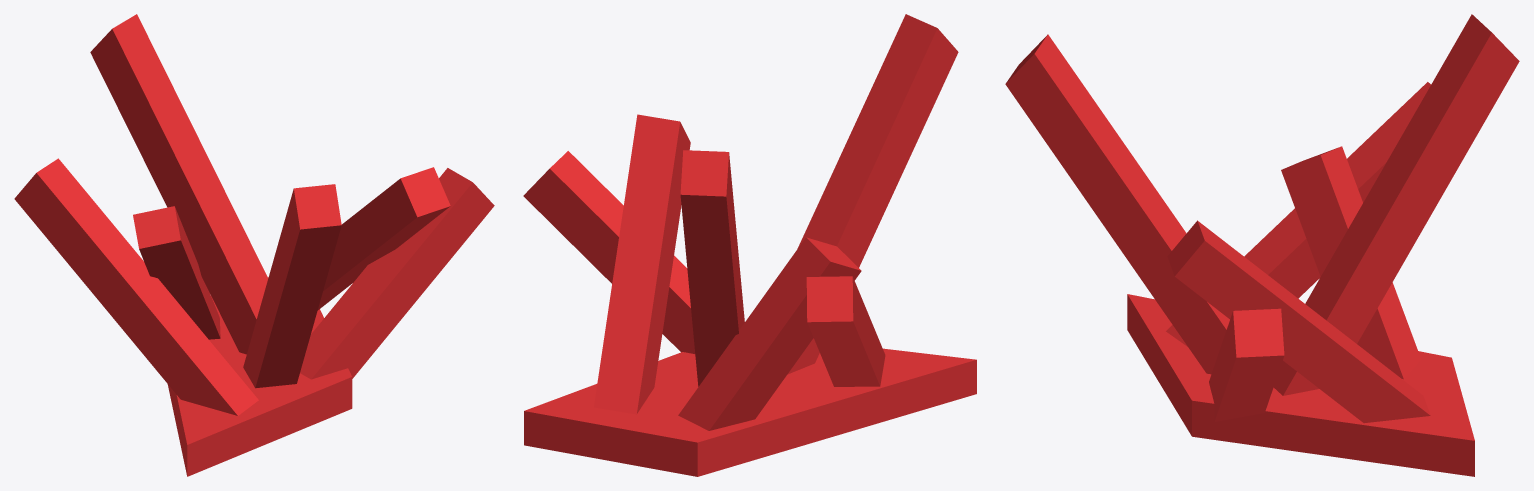
The model's file is Chromium.fbx.
3 views of the same model, side by side, from view 1: azimuth 30°, elevation 25°; view 2: azimuth 150°, elevation 25°; view 3: azimuth 270°, elevation 25° (orthographic). The views are drawn at different scales.
Visible parts, largest first — view 1: Cube.004, Cube.005, Cube.006, Cube.001, Cube, Cube.003, Cube.002; view 2: Cube, Cube.003, Cube.001, Cube.002, Cube.004, Cube.006, Cube.005; view 3: Cube.004, Cube, Cube.001, Cube.003, Cube.002, Cube.006, Cube.005.
Part boxes in pixels (x1=…): Cube.004: x1=90, y1=14, x2=268, y2=354; Cube.005: x1=14, y1=158, x2=258, y2=415; Cube.006: x1=300, y1=168, x2=494, y2=379; Cube.001: x1=243, y1=184, x2=341, y2=388; Cube: x1=167, y1=277, x2=352, y2=476; Cube.003: x1=317, y1=167, x2=450, y2=310; Cube.002: x1=133, y1=206, x2=220, y2=339; Cube: x1=524, y1=348, x2=976, y2=476; Cube.003: x1=594, y1=114, x2=690, y2=414; Cube.001: x1=787, y1=14, x2=958, y2=374; Cube.002: x1=678, y1=237, x2=861, y2=430; Cube.004: x1=680, y1=150, x2=744, y2=386; Cube.006: x1=523, y1=151, x2=695, y2=353; Cube.005: x1=806, y1=276, x2=885, y2=386; Cube.004: x1=1273, y1=14, x2=1519, y2=395; Cube: x1=1127, y1=294, x2=1474, y2=476; Cube.001: x1=1005, y1=34, x2=1229, y2=374; Cube.003: x1=1167, y1=220, x2=1430, y2=423; Cube.002: x1=1281, y1=146, x2=1420, y2=379; Cube.006: x1=1209, y1=308, x2=1284, y2=421; Cube.005: x1=1166, y1=82, x2=1430, y2=346.
Size of the model in its own units: 289 by 234 by 296.
